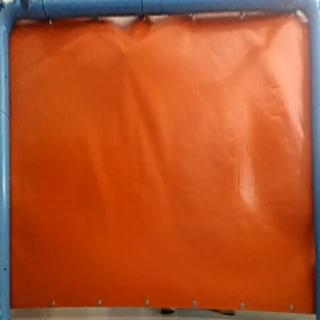Hit-hRxx: (120, 48, 129, 56)
